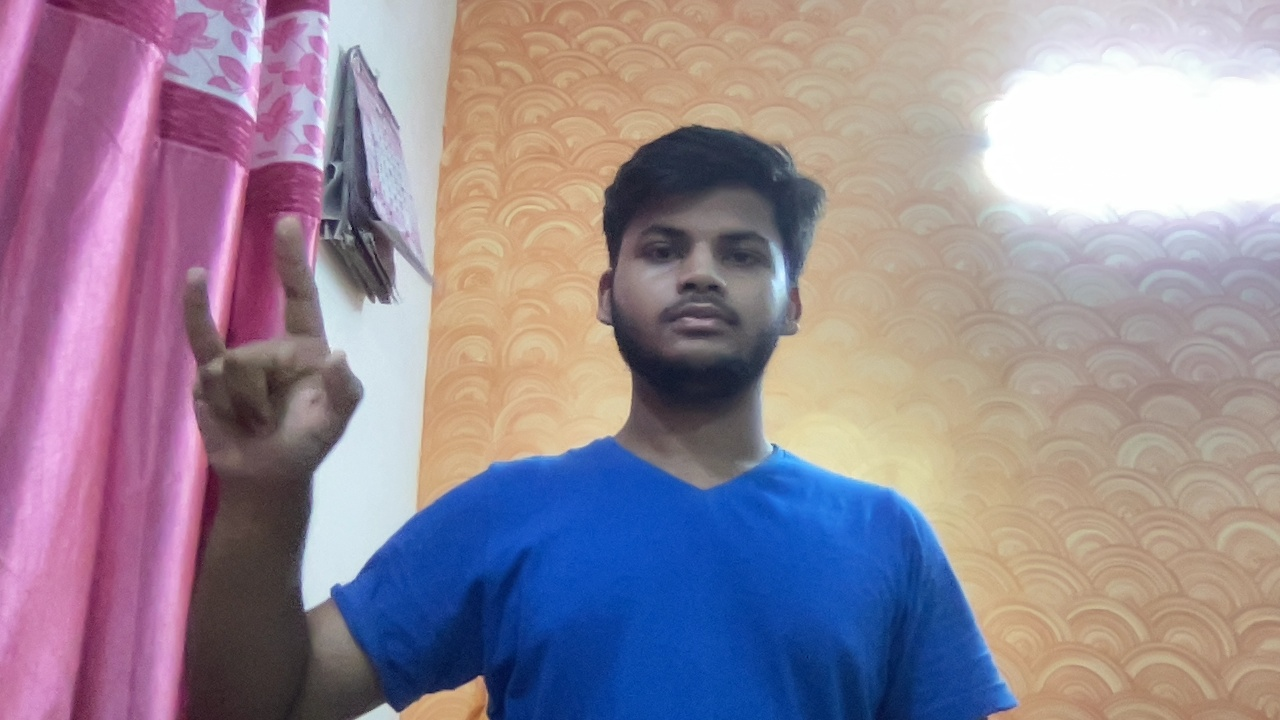iloveyou: (158, 199, 394, 521)
